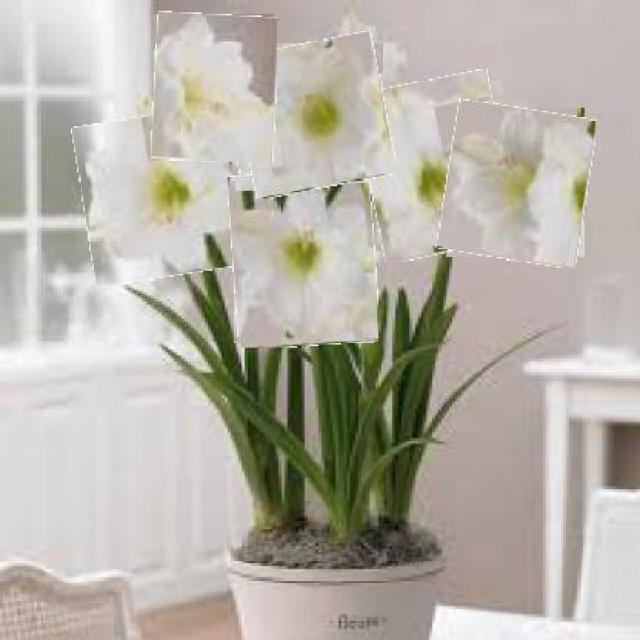Flower: (77, 108, 248, 281), (363, 75, 512, 258), (231, 168, 378, 347), (235, 37, 391, 194), (441, 104, 592, 264), (152, 13, 277, 162)
